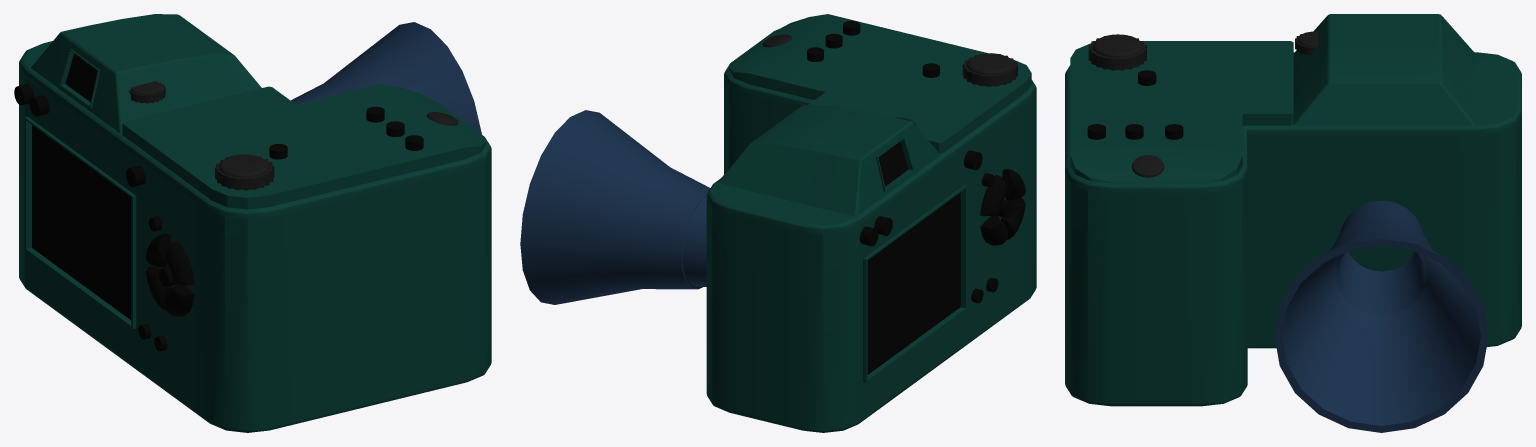
Rendered from Camera_Object.obj.
3 renders of one model, left to right at view 1: azimuth 30°, elevation 25°; view 2: azimuth 150°, elevation 25°; view 3: azimuth 270°, elevation 25°, orthographic. The views are drawn at different scales.
Visible parts, largest first — view 1: Camera_Body, pasted__polySurface3, Buttons Button_Above_Right_Side_of_Screen Button_Above_Right_Sid, Buttons Keypad pTorus1 pTorus2 pTorus3 pTorus4, Twist_Dial_Twist_DialShape Twist_Dial_Twist_DialShape1; view 2: Camera_Body, pasted__polySurface3, Buttons Button_Above_Right_Side_of_Screen Button_Above_Right_Sid, Buttons Keypad pTorus1 pTorus2 pTorus3 pTorus4, Twist_Dial_Twist_DialShape Twist_Dial_Twist_DialShape1; view 3: Camera_Body, pasted__polySurface3, Twist_Dial_Twist_DialShape Twist_Dial_Twist_DialShape1, Buttons Button_Above_Right_Side_of_Screen Button_Above_Right_Sid, Front_Button Buttons.
Boxes of the visible parts, x1,y1,x2,y2 form: Camera_Body: (19,14,491,432); pasted__polySurface3: (291,22,481,134); Buttons Button_Above_Right_Side_of_Screen Button_Above_Right_Sid: (14,84,423,351); Buttons Keypad pTorus1 pTorus2 pTorus3 pTorus4: (146,234,194,316); Twist_Dial_Twist_DialShape Twist_Dial_Twist_DialShape1: (129,81,274,190); Camera_Body: (706,14,1036,432); pasted__polySurface3: (520,110,710,304); Buttons Button_Above_Right_Side_of_Screen Button_Above_Right_Sid: (807,21,1013,303); Buttons Keypad pTorus1 pTorus2 pTorus3 pTorus4: (980,169,1025,245); Twist_Dial_Twist_DialShape Twist_Dial_Twist_DialShape1: (896,53,1017,125); Camera_Body: (1065,14,1521,406); pasted__polySurface3: (1274,200,1488,432); Twist_Dial_Twist_DialShape Twist_Dial_Twist_DialShape1: (1088,31,1318,70); Buttons Button_Above_Right_Side_of_Screen Button_Above_Right_Sid: (1087,70,1183,139); Front_Button Buttons: (1131,155,1164,177).
Bounding box in the file's own units: 8.53 × 5.89 × 9.1.
